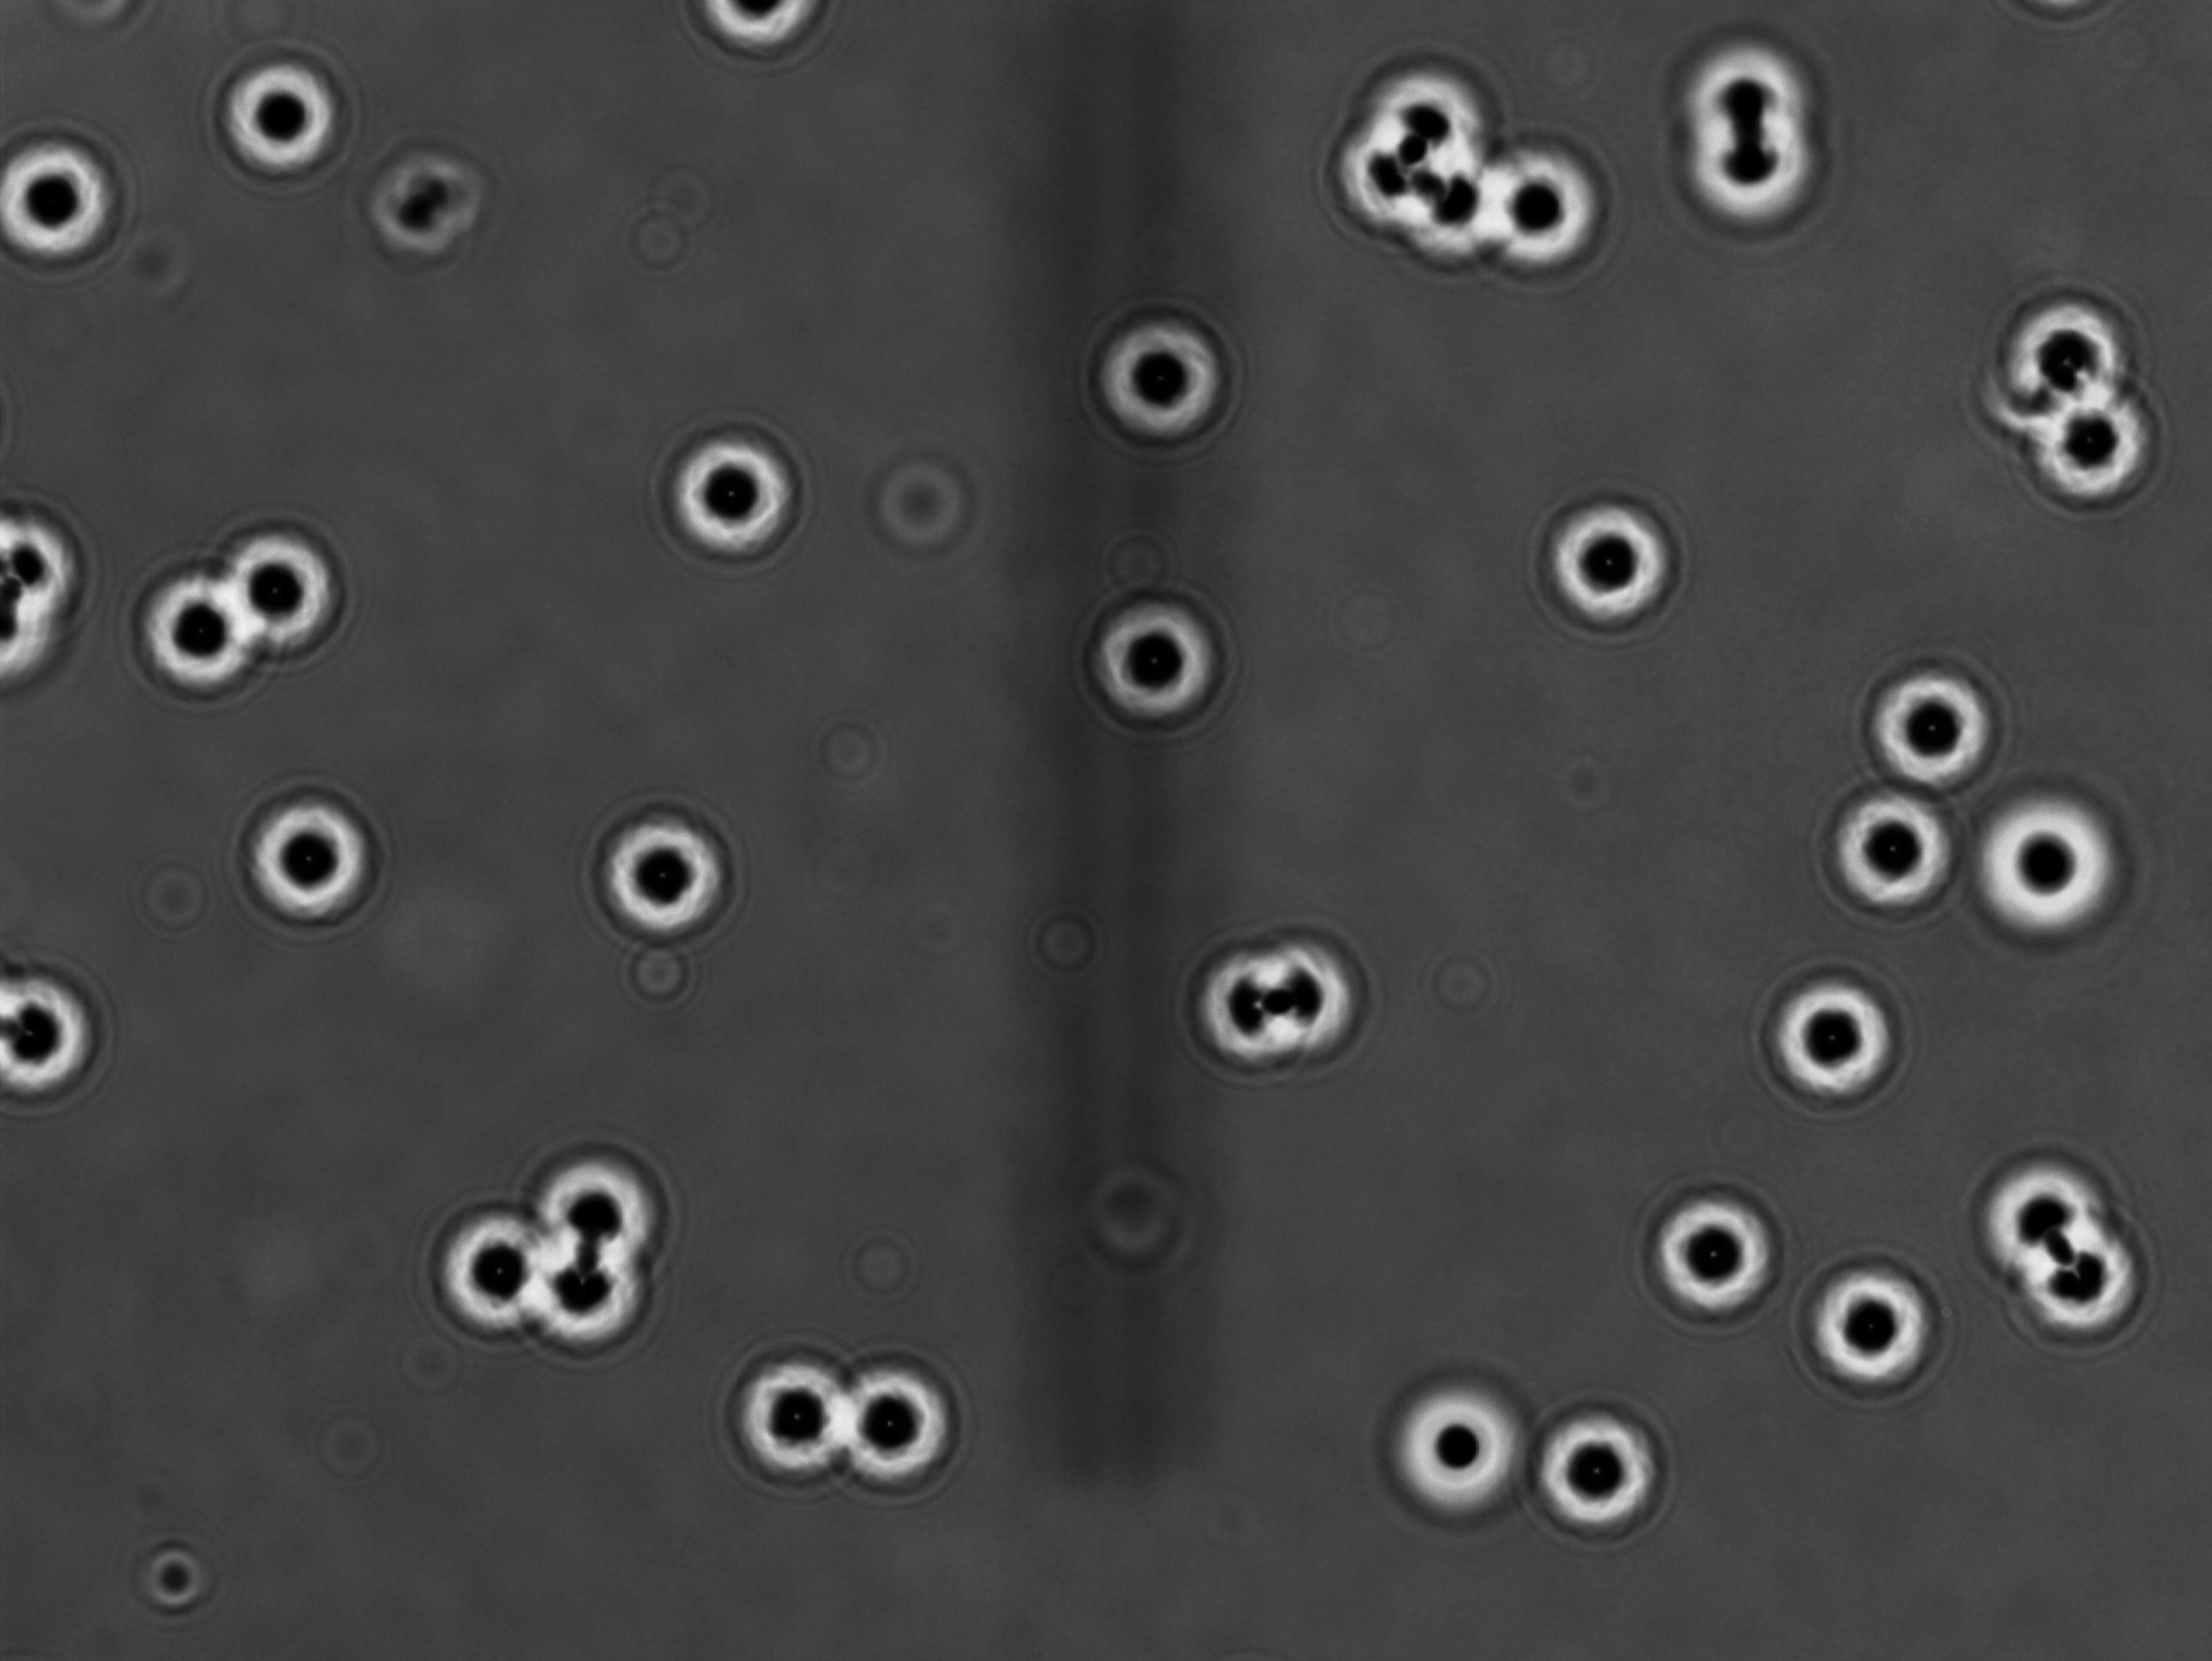depth:-20: (218, 785, 394, 951), (1511, 1389, 1676, 1562), (1073, 574, 1244, 740), (1085, 288, 1249, 455), (584, 785, 754, 946), (1628, 1169, 1792, 1333), (1750, 956, 1915, 1118), (2029, 356, 2196, 515), (1819, 755, 1980, 918), (1530, 478, 1680, 646), (1846, 654, 2017, 797), (1793, 1254, 1952, 1408), (645, 419, 806, 569), (717, 1328, 862, 1490), (1983, 274, 2144, 415), (829, 1333, 968, 1495), (126, 558, 274, 705), (206, 515, 351, 663), (213, 54, 347, 194)
